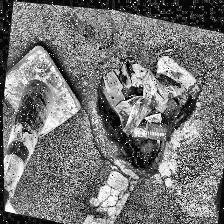pothole: (82, 38, 202, 186)
